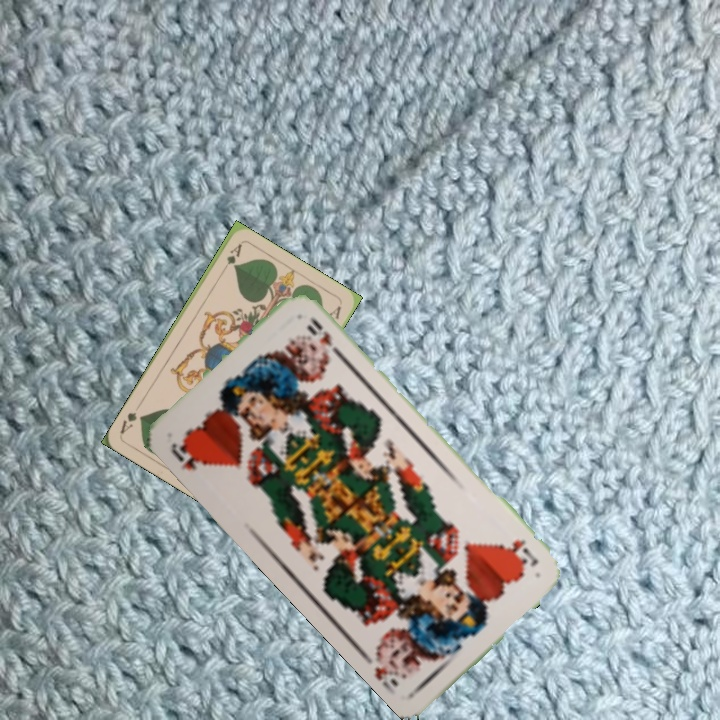GA: (217, 240, 244, 277)
HO: (167, 436, 208, 474), (505, 535, 541, 569)
